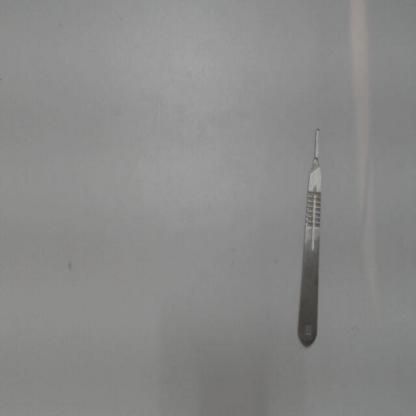No.3 BP Handle: (295, 121, 329, 354)
